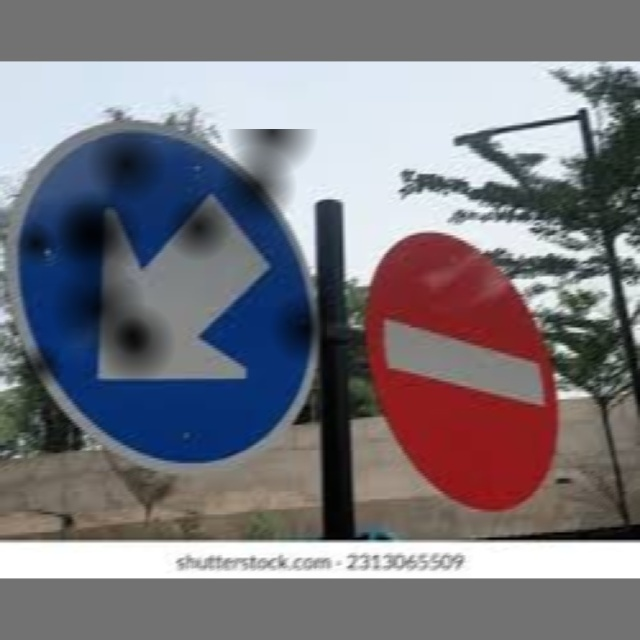Compulsory_Keep_Left: (14, 129, 327, 448)
